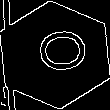O_W: (25, 31, 85, 79)
